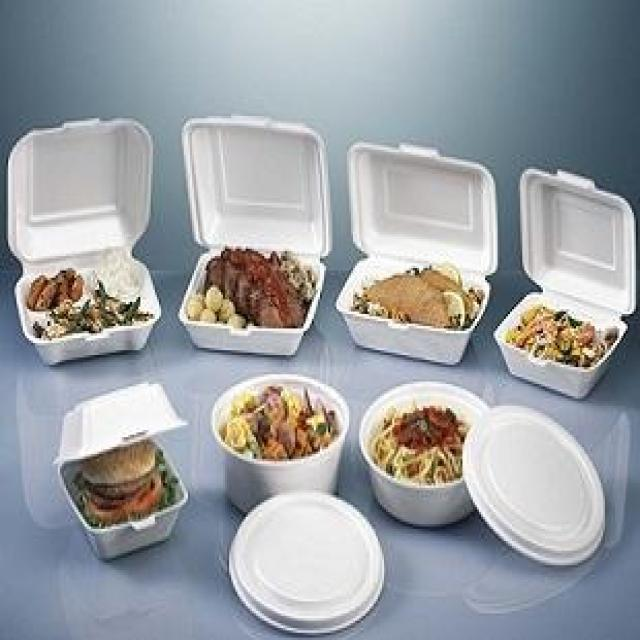styrofoam: (357, 378, 608, 569), (209, 371, 387, 638), (4, 113, 161, 364), (333, 137, 500, 370), (176, 111, 332, 359), (494, 166, 636, 402), (52, 378, 191, 565)
